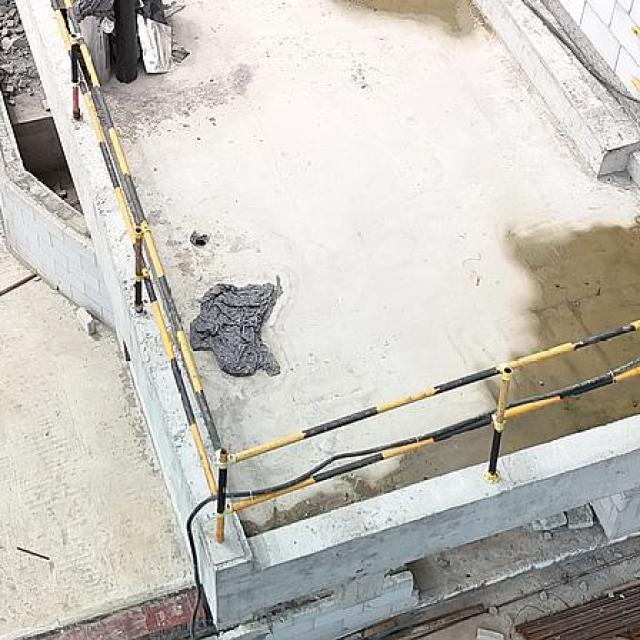edge_guardrail: (45, 0, 640, 543)
